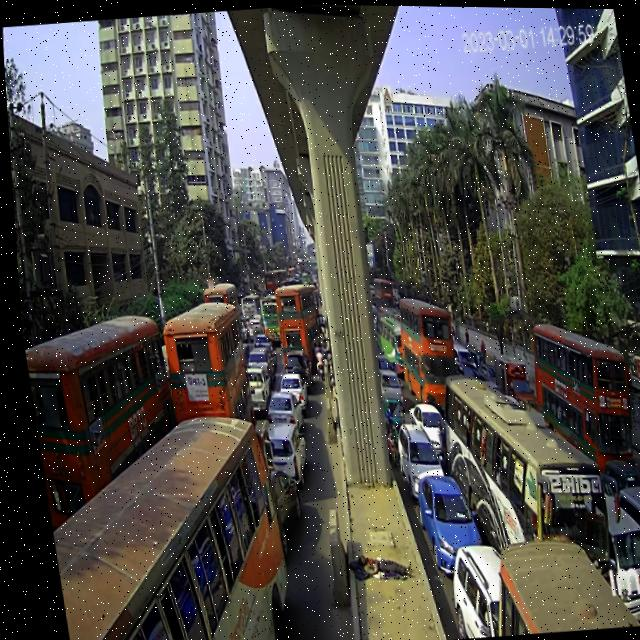cng: (373, 382, 407, 452)
